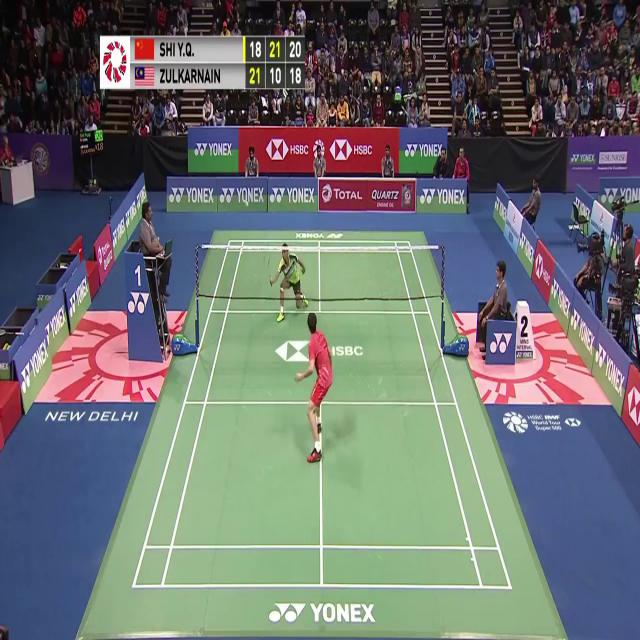Shuttlecock: (243, 200, 249, 211)
